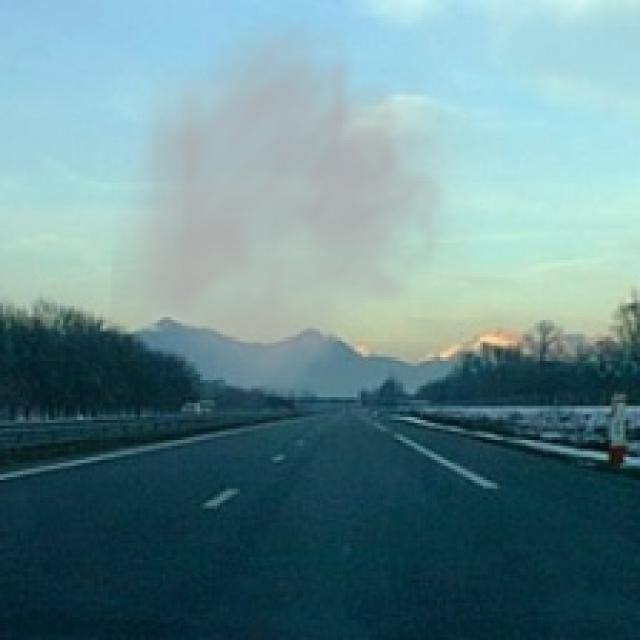smoke: (111, 0, 489, 415)
